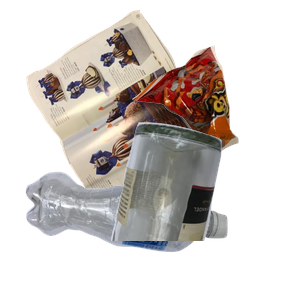glass: (109, 120, 300, 300)
paper: (24, 10, 235, 190)
plastic: (23, 169, 243, 300)
trash: (130, 43, 300, 190)
